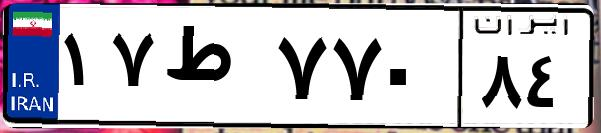0: (385, 28, 445, 110)
1: (57, 26, 110, 100)
4: (525, 38, 570, 115)
7: (270, 28, 330, 110), (330, 28, 385, 110), (110, 28, 158, 98)
8: (475, 38, 525, 113)
ط: (158, 20, 270, 120)
